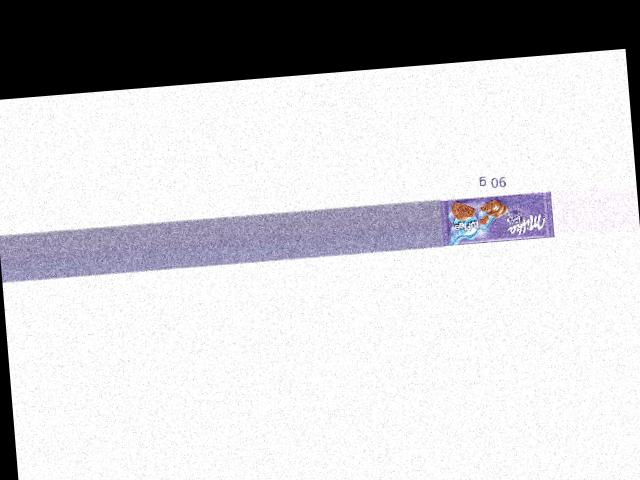chocolate: (439, 192, 552, 246)
